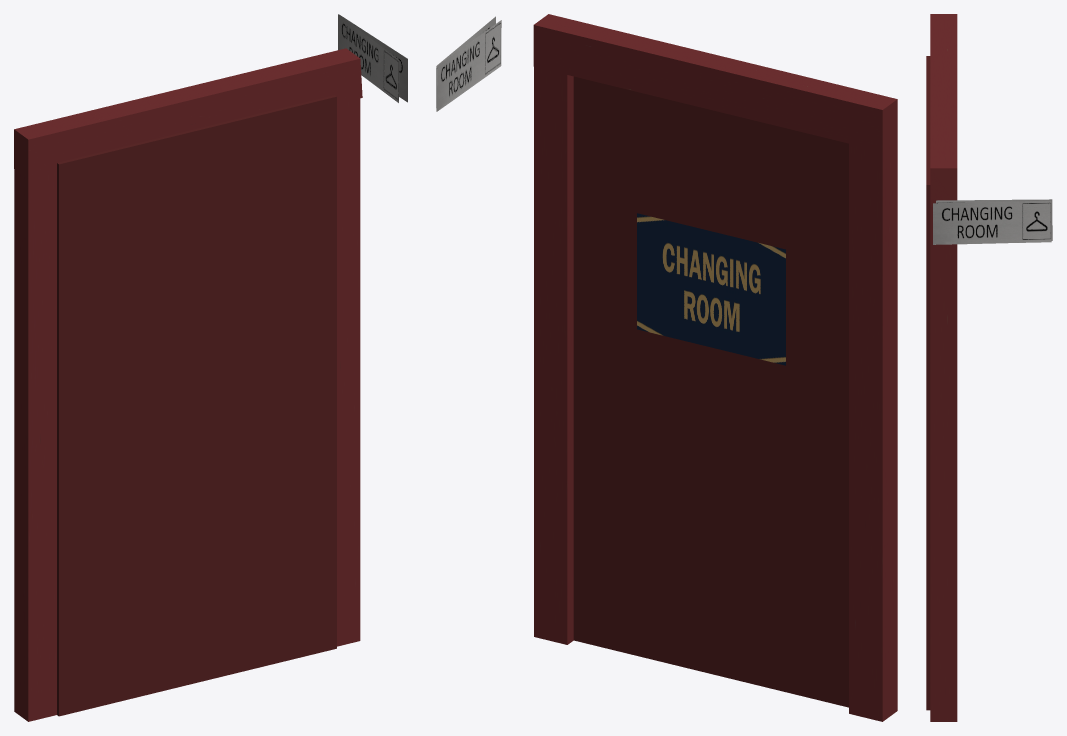
File: door changing room 1.fbx
The picture shows the model from 3 angles, left to right: view 1: azimuth 30°, elevation 25°; view 2: azimuth 150°, elevation 25°; view 3: azimuth 270°, elevation 25°; orthographic projection. The views are drawn at different scales.
Parts seen in each view (by area): view 1: polySurface728, polySurface724, polySurface726, polySurface727; view 2: polySurface728, polySurface724, polySurface725, polySurface726; view 3: polySurface724, polySurface727, polySurface728, polySurface726.
Boxes of the visible parts, left/top/right/bottom form: polySurface728: left=57, top=95, right=336, bottom=716; polySurface724: left=14, top=48, right=362, bottom=721; polySurface726: left=338, top=14, right=399, bottom=102; polySurface727: left=339, top=14, right=407, bottom=102; polySurface728: left=573, top=76, right=848, bottom=707; polySurface724: left=533, top=14, right=897, bottom=721; polySurface725: left=637, top=213, right=785, bottom=365; polySurface726: left=437, top=20, right=501, bottom=111; polySurface724: left=930, top=14, right=957, bottom=721; polySurface727: left=933, top=200, right=1051, bottom=244; polySurface728: left=926, top=56, right=930, bottom=710; polySurface726: left=936, top=199, right=1052, bottom=240.
Size of the model in its own units: 119 by 173 by 35.83.
